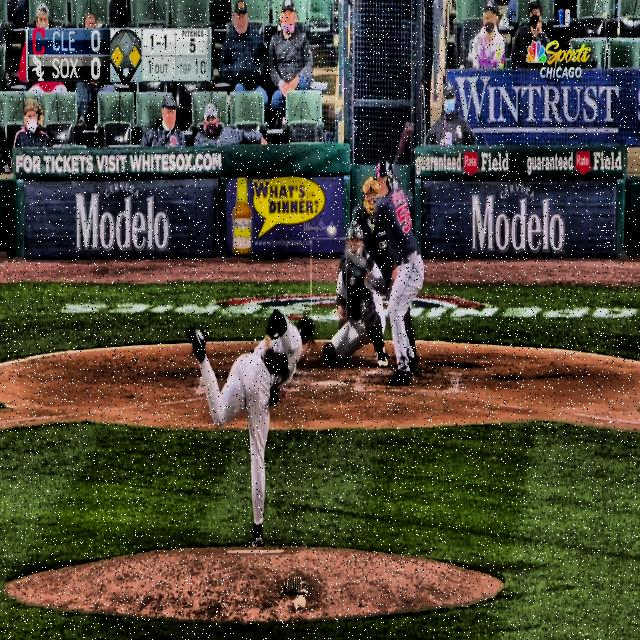baseball: (326, 225, 338, 238)
